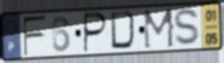6: (50, 15, 72, 54)
D: (109, 10, 139, 52)
F: (21, 14, 48, 58)
M: (143, 7, 177, 51)
P: (82, 11, 109, 55)
S: (172, 7, 203, 48)
